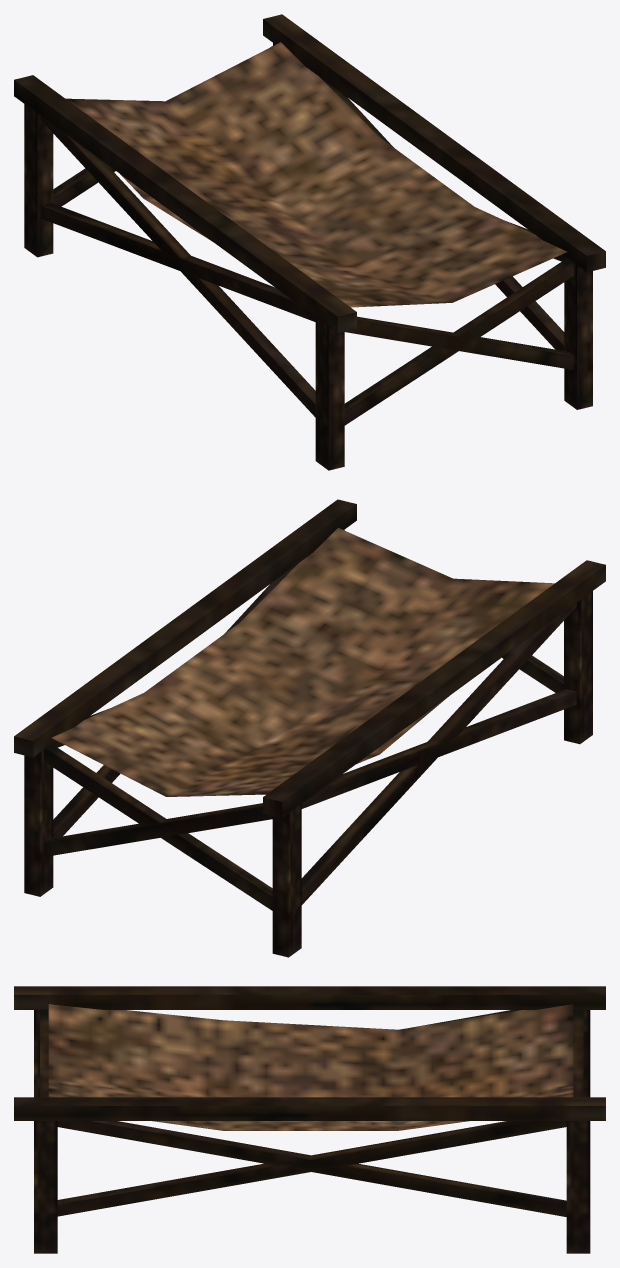
Rendered from general_obj_woodbed_01.glb.
The picture shows the model from 3 angles, top to bottom: view 1: azimuth 30°, elevation 25°; view 2: azimuth 150°, elevation 25°; view 3: azimuth 270°, elevation 25°; orthographic projection. The views are drawn at different scales.
Visible parts, largest first — view 1: Object25; view 2: Object25; view 3: Object25.
Part boxes in pixels (x1,y1,x2,y2): Object25: (14,14,605,470); Object25: (14,499,605,957); Object25: (14,986,605,1253).
Size of the model in its own units: 1.22 by 0.7064 by 2.55.
Materials: 1 (1 with a texture image).
